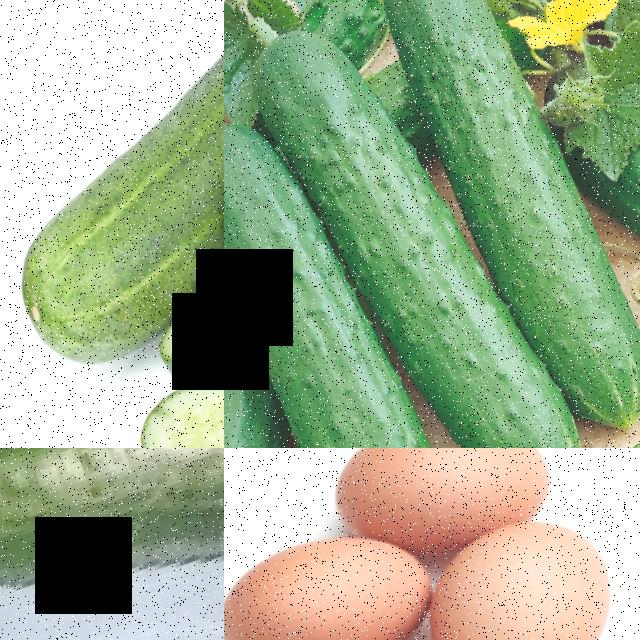cucumber: (235, 0, 510, 378), (354, 0, 619, 314), (224, 93, 446, 448), (0, 102, 224, 384), (479, 159, 640, 445), (0, 448, 224, 640), (401, 301, 611, 448), (224, 326, 363, 448), (127, 356, 224, 448)
egg_: (424, 485, 640, 640), (224, 501, 438, 640), (339, 448, 569, 567)
